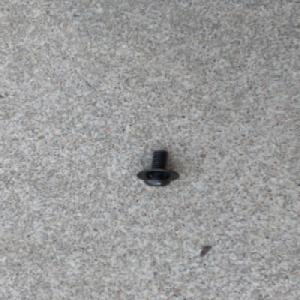BoltWasher: (133, 150, 179, 188)
